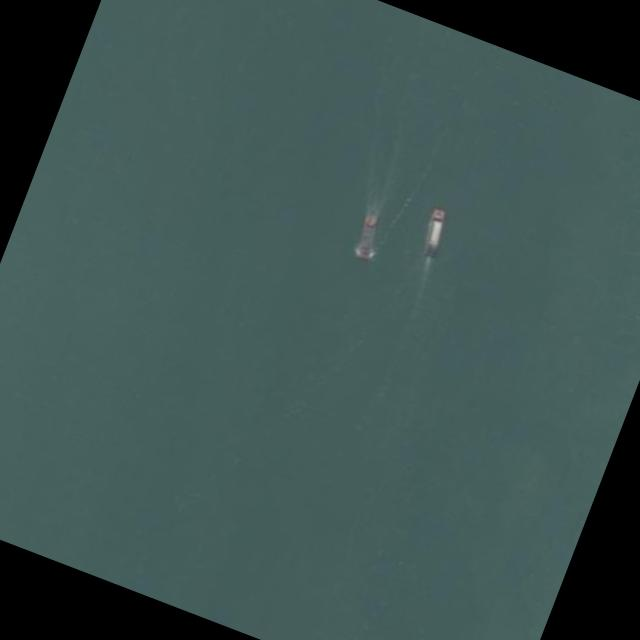ship: (354, 210, 380, 260), (421, 207, 447, 256)
